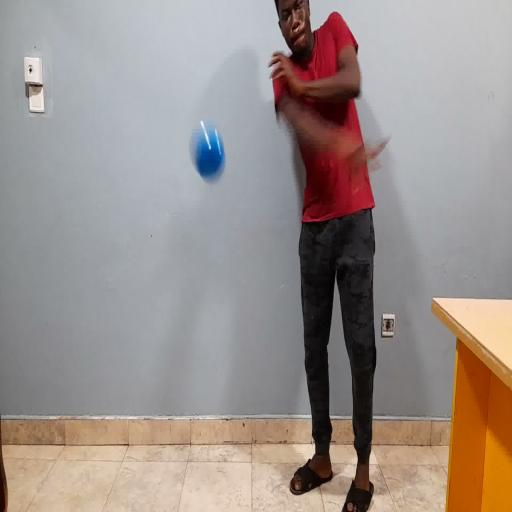plastic-ball: (191, 122, 225, 180)
